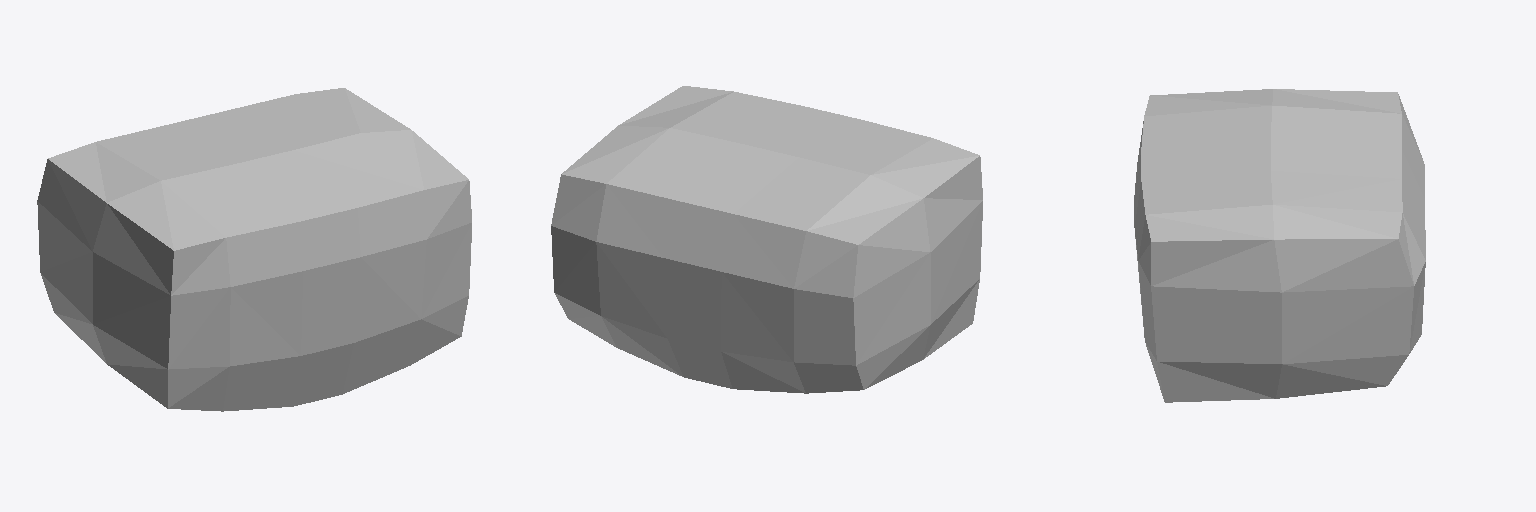
The model's file is pelvis.obj.
3 views of the same model, side by side, from view 1: azimuth 30°, elevation 25°; view 2: azimuth 150°, elevation 25°; view 3: azimuth 270°, elevation 25° (orthographic).
Visible parts, largest first — view 1: hips_geo; view 2: hips_geo; view 3: hips_geo.
Boxes of the visible parts, x1=… form: hips_geo: x1=37, y1=88, x2=471, y2=411; hips_geo: x1=551, y1=86, x2=982, y2=393; hips_geo: x1=1134, y1=89, x2=1425, y2=402.
Bounding box in the file's own units: 21.71 × 13 × 16.83.